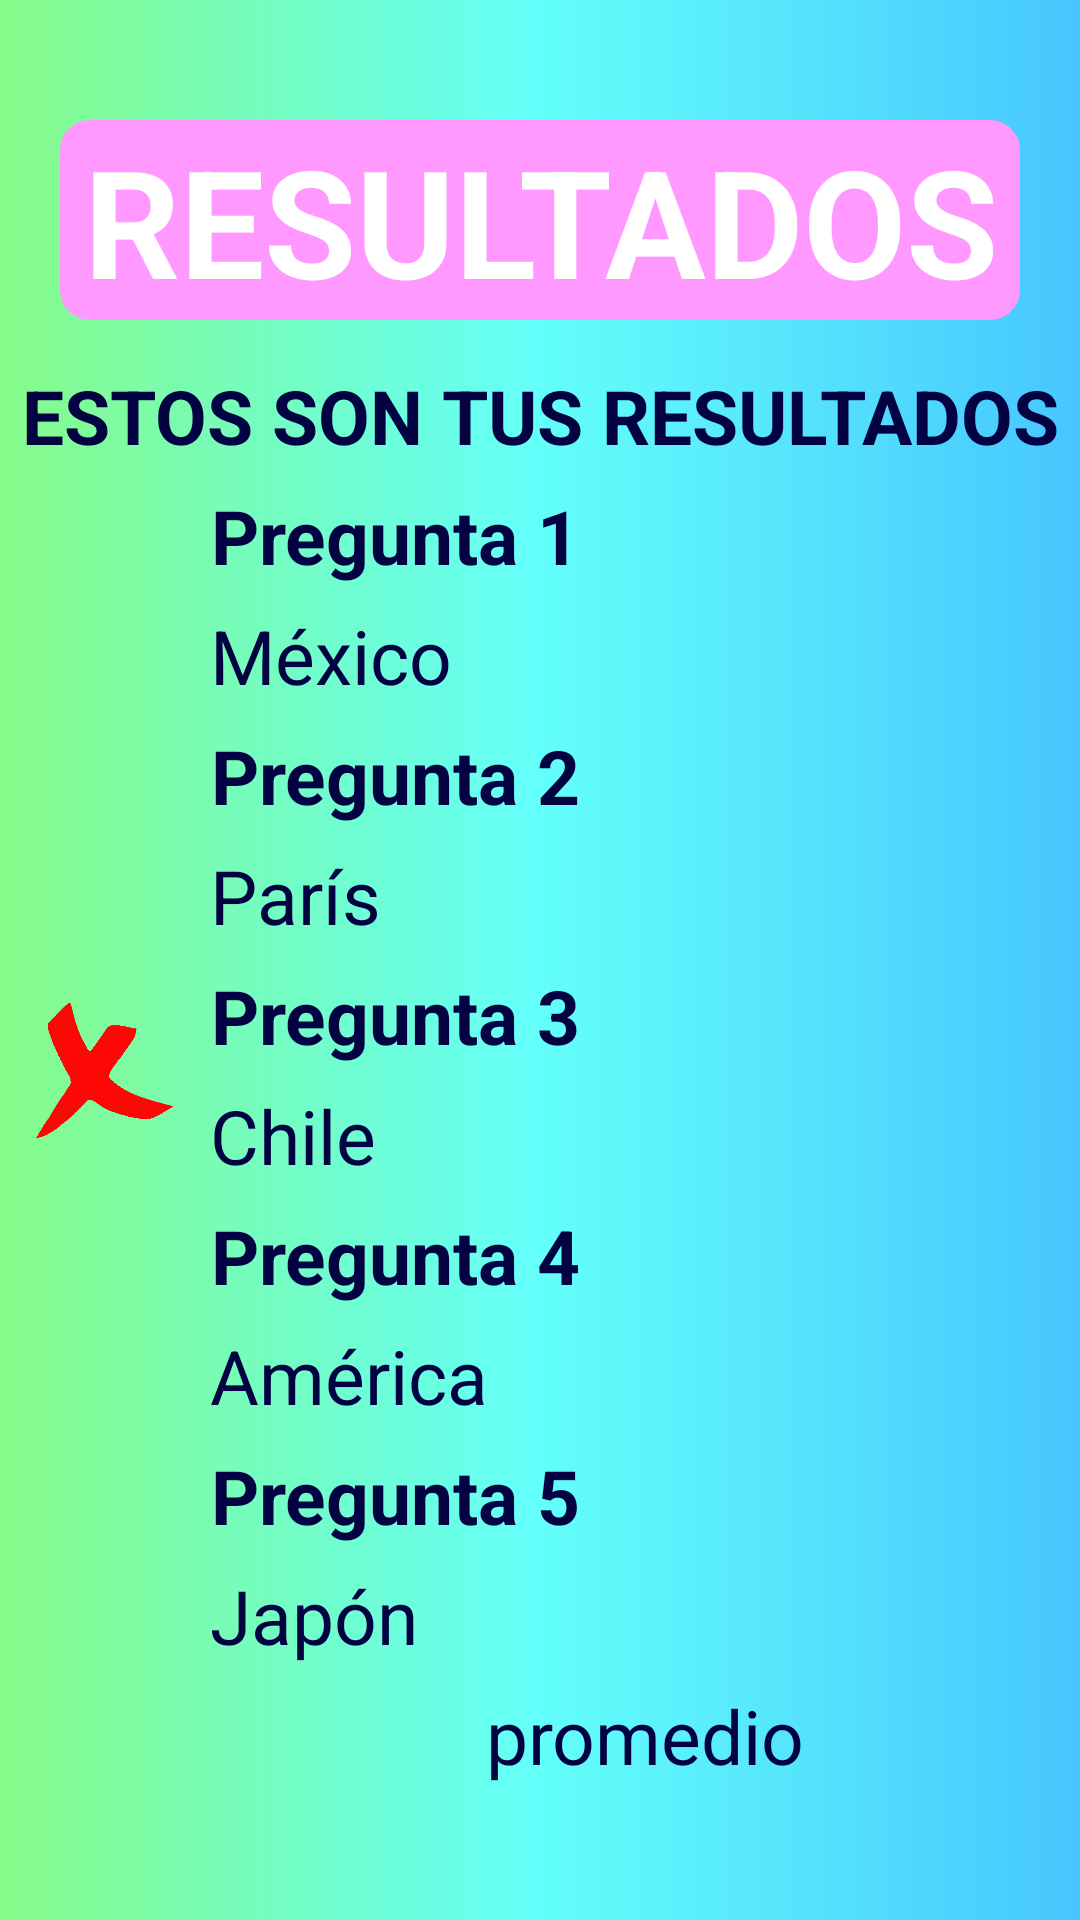

Where icons sit on this 1080w x 1920h app screen, as BBox(x1, y1, x2, y2):
tacha: BBox(0, 965, 174, 1175)
